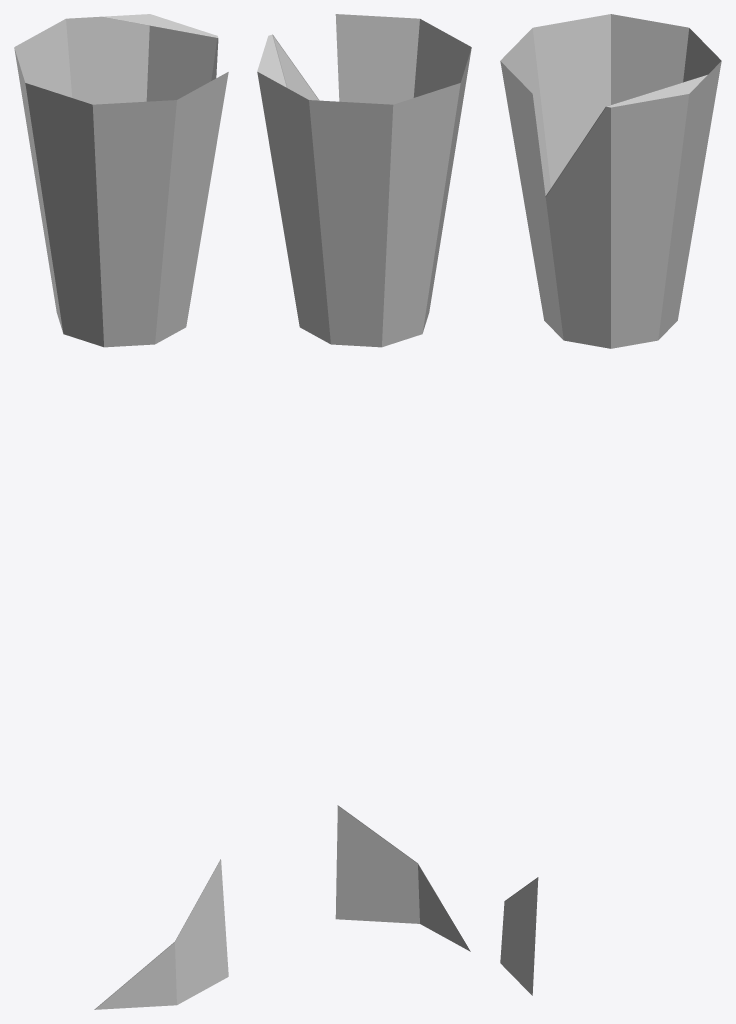
File: blueMarker.fbx
The picture shows the model from 3 angles, left to right: view 1: azimuth 30°, elevation 25°; view 2: azimuth 150°, elevation 25°; view 3: azimuth 270°, elevation 25°; orthographic projection.
Parts seen in each view (by area): view 1: BlueMarker; view 2: BlueMarker; view 3: BlueMarker.
Boxes of the visible parts, bbox=[...] form: BlueMarker: bbox=[14, 14, 228, 1009]; BlueMarker: bbox=[257, 14, 471, 951]; BlueMarker: bbox=[500, 14, 721, 995].
Size of the model in its own units: 8.47 by 38.08 by 8.47.
